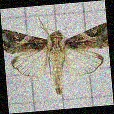Spodoptera litura: (4, 10, 109, 95)
